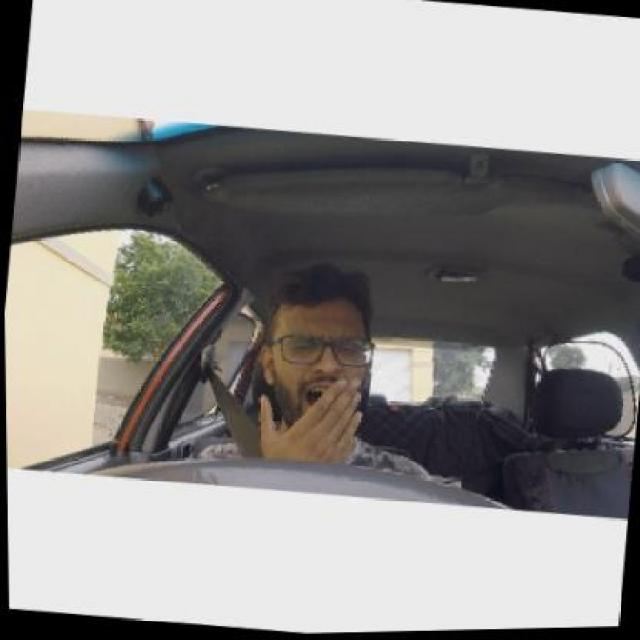drowsy: (260, 260, 378, 448)
